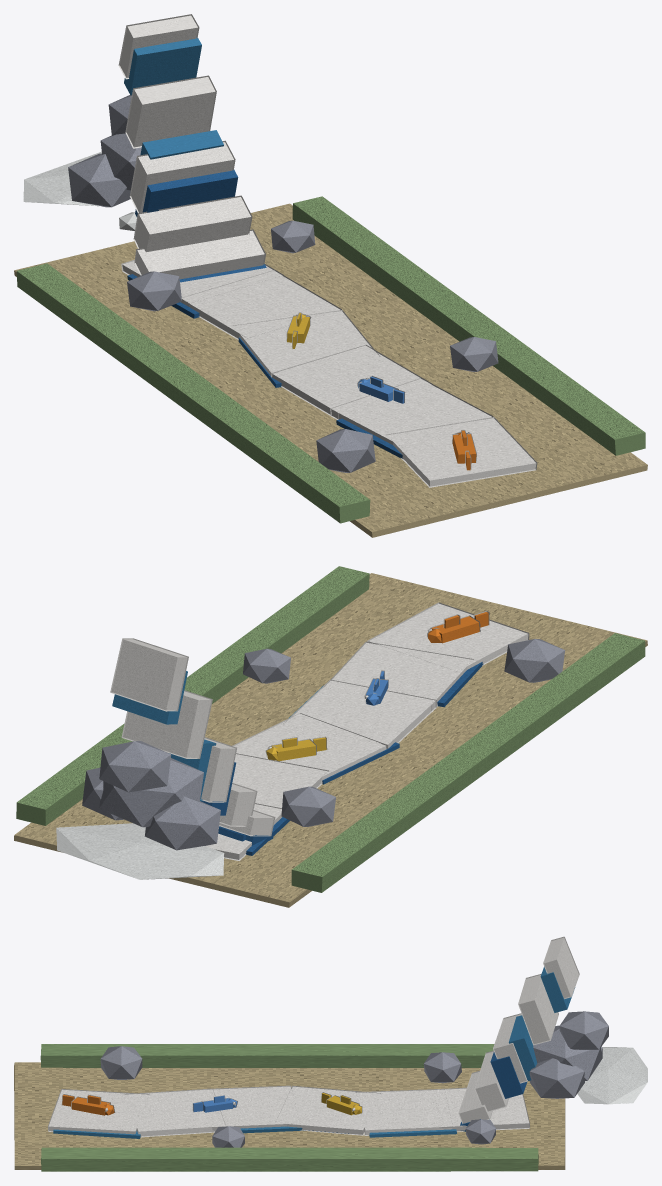
The model's file is bethlehem_stream_fish_alive_v2.glb.
3 views of the same model, one above another, from view 1: azimuth 30°, elevation 25°; view 2: azimuth 150°, elevation 25°; view 3: azimuth 270°, elevation 25° (orthographic). The views are drawn at different scales.
Parts seen in each view (by area): view 1: StreamBed, Bank_0, Bank_1, Stream_Sheet_0_Outline, Stream_Sheet_2_Outline, Stream_Sheet_4_Outline, Waterfall_Sheet_1_Outline, Stream_Sheet_1_Outline, Waterfall_Sheet_3_Outline, Stream_Sheet_3_Outline, Waterfall_Sheet_4_Outline, Waterfall_Sheet_2_Outline (+13 smaller); view 2: StreamBed, Bank_0, Bank_1, Foam_Splash, Stream_Sheet_2_Outline, Stream_Sheet_0_Outline, Stream_Sheet_1_Outline, Waterfall_Sheet_0_Outline, Stream_Sheet_3_Outline, Waterfall_Sheet_1_Outline, WF_Rock_0, WF_Rock_3 (+16 smaller); view 3: StreamBed, Bank_1, Bank_0, Stream_Sheet_4_Outline, Stream_Sheet_2_Outline, Stream_Sheet_1_Outline, Stream_Sheet_0_Outline, Foam_Splash, Stream_Sheet_3_Outline, Stream_Sheet_5_Outline, Waterfall_Sheet_1_Outline, WF_Rock_2 (+18 smaller).
Boxes of the visible parts, <box> form: StreamBed: <box>14,203,647,537</box>; Bank_0: <box>16,263,370,523</box>; Bank_1: <box>292,196,645,455</box>; Stream_Sheet_0_Outline: <box>386,417,537,487</box>; Stream_Sheet_2_Outline: <box>271,344,431,419</box>; Stream_Sheet_4_Outline: <box>182,270,341,339</box>; Waterfall_Sheet_1_Outline: <box>125,75,216,148</box>; Stream_Sheet_1_Outline: <box>330,378,493,446</box>; Waterfall_Sheet_3_Outline: <box>133,195,252,252</box>; Stream_Sheet_3_Outline: <box>233,310,380,375</box>; Waterfall_Sheet_4_Outline: <box>134,229,265,279</box>; Waterfall_Sheet_2_Outline: <box>129,140,235,212</box>; StreamBed: <box>14,573,647,907</box>; Bank_0: <box>291,633,645,892</box>; Bank_1: <box>16,566,369,825</box>; Foam_Splash: <box>56,823,224,879</box>; Stream_Sheet_2_Outline: <box>283,679,436,748</box>; Stream_Sheet_0_Outline: <box>367,602,529,671</box>; Stream_Sheet_1_Outline: <box>323,641,473,712</box>; Waterfall_Sheet_0_Outline: <box>110,638,188,711</box>; Stream_Sheet_3_Outline: <box>232,713,387,784</box>; Waterfall_Sheet_1_Outline: <box>121,690,212,758</box>; WF_Rock_0: <box>99,758,203,827</box>; WF_Rock_3: <box>99,741,171,792</box>; StreamBed: <box>14,1062,565,1169</box>; Bank_1: <box>41,1147,538,1171</box>; Bank_0: <box>40,1044,494,1067</box>; Stream_Sheet_4_Outline: <box>355,1089,452,1135</box>; Stream_Sheet_2_Outline: <box>203,1085,298,1132</box>; Stream_Sheet_1_Outline: <box>124,1089,225,1137</box>; Stream_Sheet_0_Outline: <box>48,1089,149,1134</box>; Foam_Splash: <box>577,1047,647,1104</box>; Stream_Sheet_3_Outline: <box>275,1085,380,1135</box>; Stream_Sheet_5_Outline: <box>432,1087,529,1131</box>; Waterfall_Sheet_1_Outline: <box>518,974,558,1045</box>; WF_Rock_2: <box>529,1058,584,1098</box>.
Bounding box in the file's own units: 3.56 × 2.71 × 8.29.
19 materials, 19 textured.
